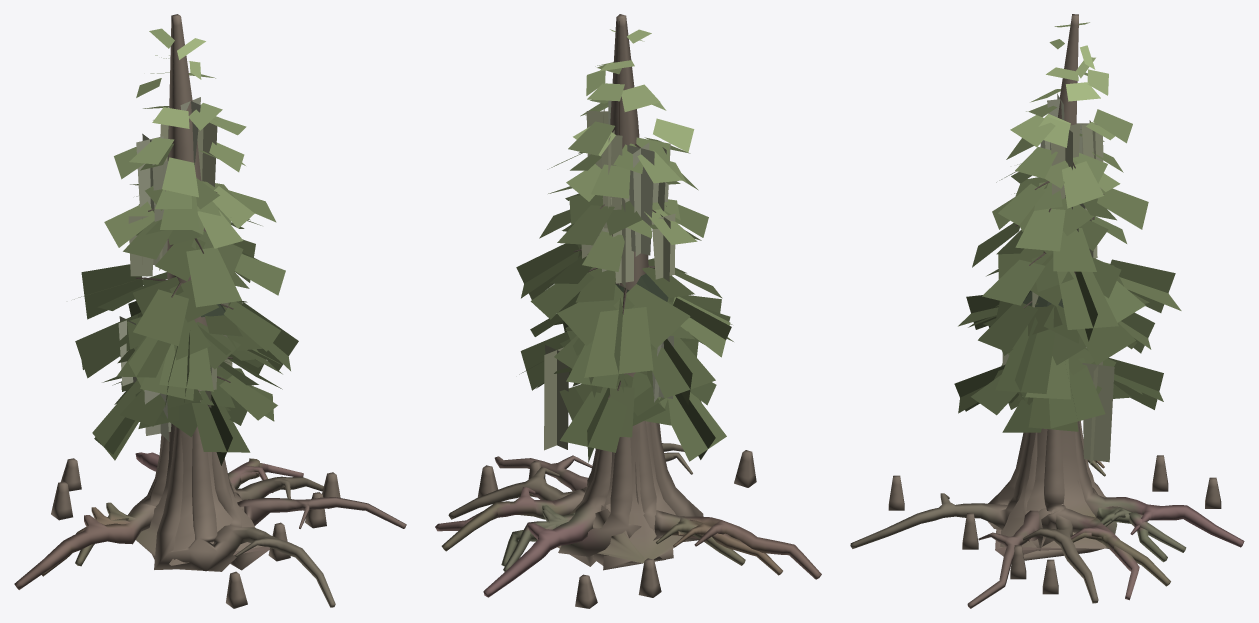
The model's file is cypress_3.glb.
The picture shows the model from 3 angles, left to right: view 1: azimuth 30°, elevation 25°; view 2: azimuth 150°, elevation 25°; view 3: azimuth 270°, elevation 25°; orthographic projection. The views are drawn at different scales.
Parts seen in each view (by area): view 1: cypress_3; view 2: cypress_3; view 3: cypress_3.
Part boxes in pixels (<box>): cypress_3: <box>14,14,406,608</box>; cypress_3: <box>435,14,821,608</box>; cypress_3: <box>850,14,1244,608</box>.
Bounding box in the file's own units: 7.01 × 10.17 × 6.84.
